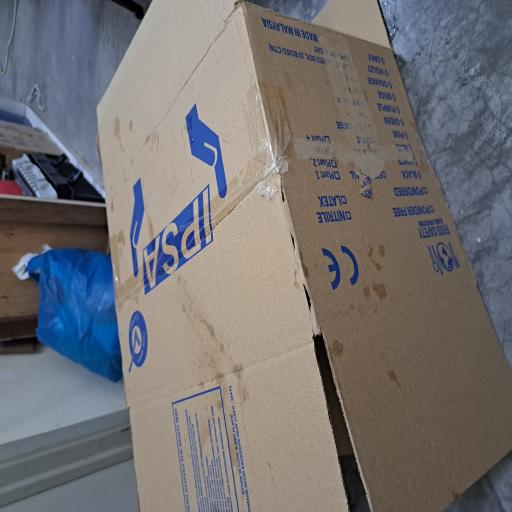cardboard: (0, 125, 384, 512)
plastic bag: (96, 36, 200, 162)
